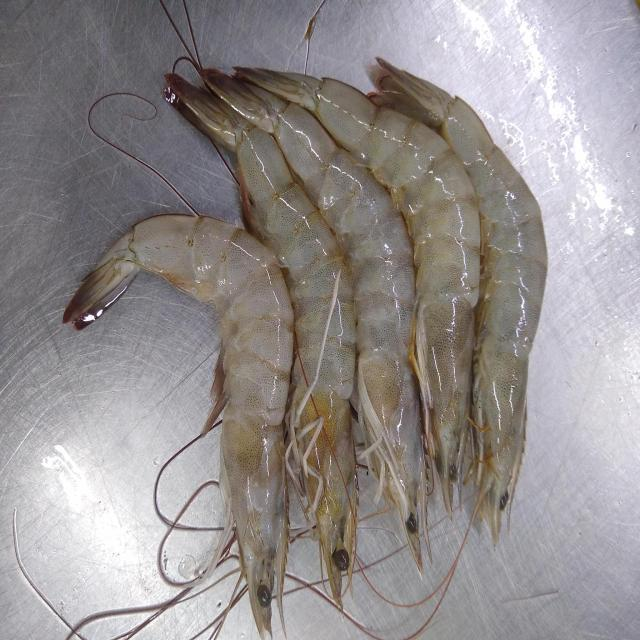shrimp: (165, 73, 356, 606), (230, 76, 430, 575), (62, 214, 294, 638), (270, 72, 481, 515), (370, 57, 549, 544)
